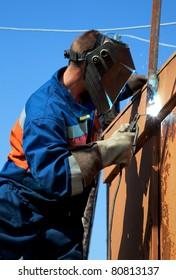gloves: (69, 123, 133, 183), (125, 75, 147, 90)
